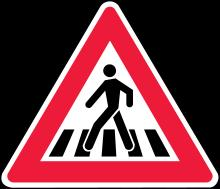Pedestrian Crossing: (11, 15, 220, 183)
